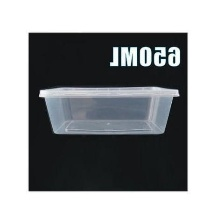plastic_box: (34, 77, 184, 140)
